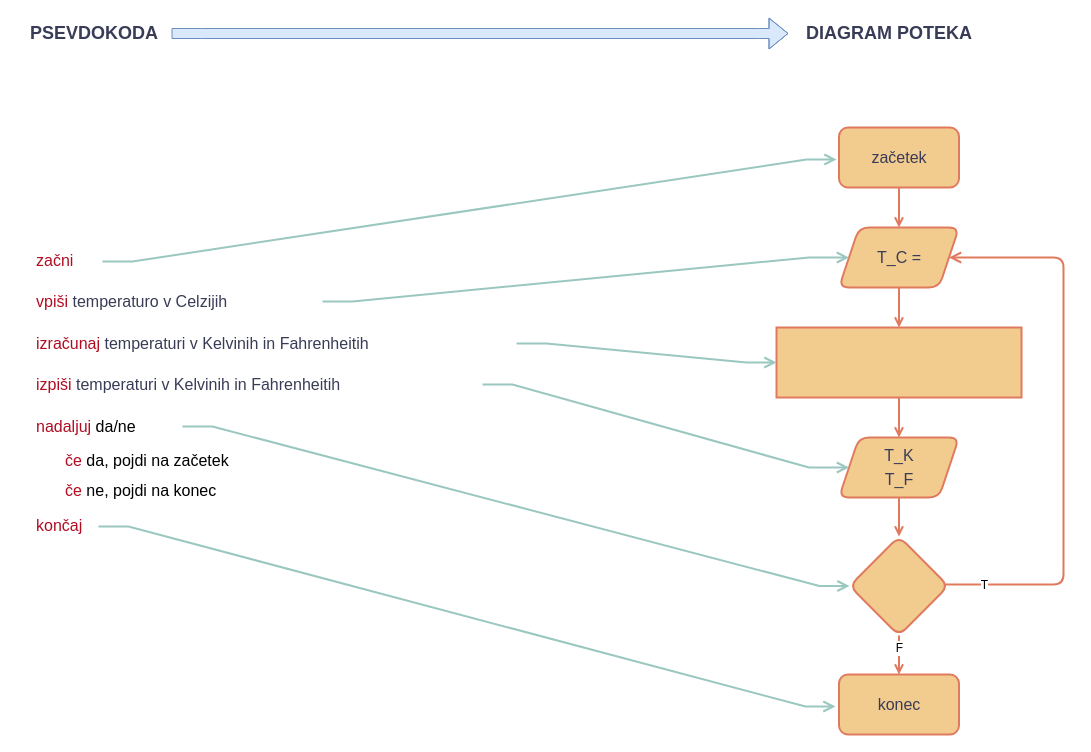
The diagram is 1091 pixels wide and 752 high, and some of its shapes have lost their labels. The centre of each missing label's shape, as x and y in pixels:
nadaljuj?: point (898, 585)
T_K= T_C + 273.15 T_F=9/5 * T_C + 32: point (898, 362)
